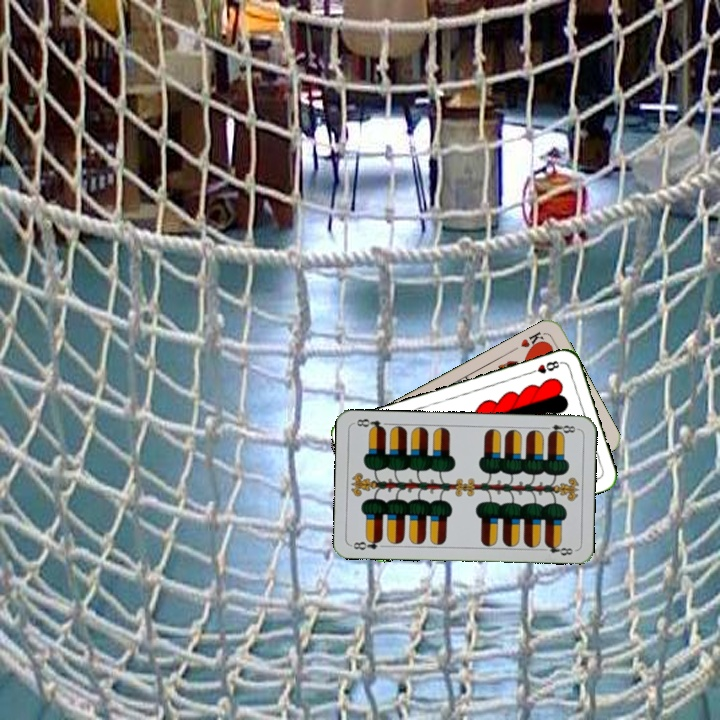E8: (539, 420, 580, 438), (348, 534, 385, 553)
H8: (525, 357, 564, 377)
HK: (516, 327, 548, 354)
